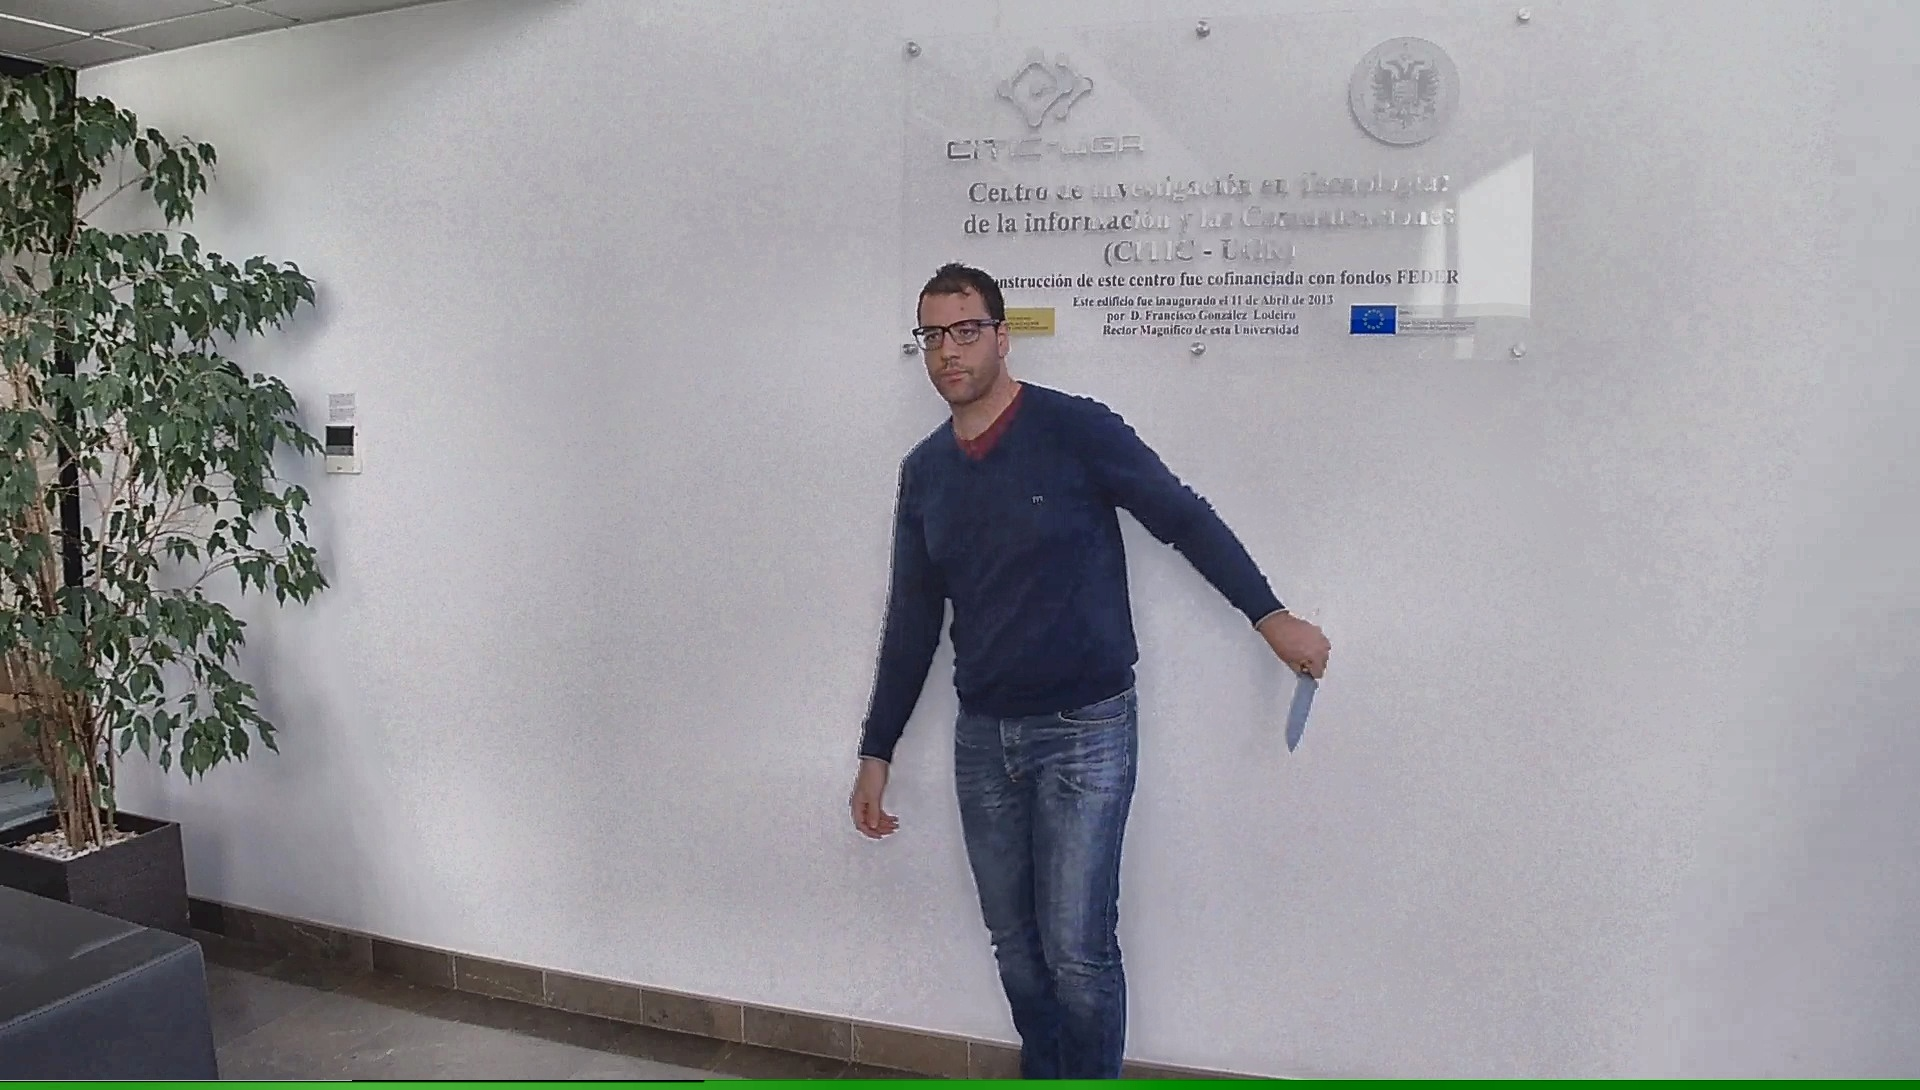knife: (1276, 627, 1337, 762)
